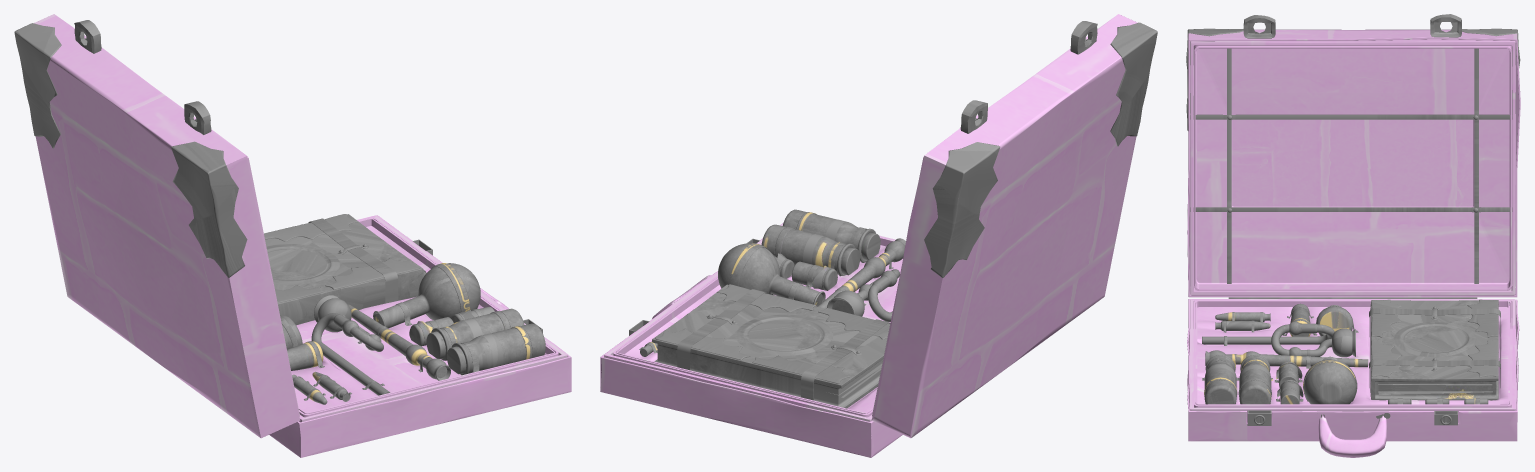
The model's file is Alchemy.fbx.
3 renders of one model, left to right at view 1: azimuth 30°, elevation 25°; view 2: azimuth 150°, elevation 25°; view 3: azimuth 270°, elevation 25°, orthographic. The views are drawn at different scales.
Parts seen in each view (by area): view 1: polySurface4; view 2: polySurface4; view 3: polySurface4.
Part boxes in pixels (x1,y1,x2,y2): polySurface4: [14, 14, 571, 457]; polySurface4: [600, 14, 1157, 457]; polySurface4: [1186, 14, 1520, 457].
Bounding box in the file's own units: 613 × 508 × 524.
